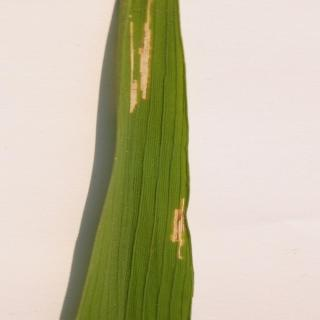Hawar-Daun: (118, 0, 168, 130), (162, 159, 198, 286)
